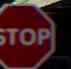Stop: (0, 2, 59, 68)
